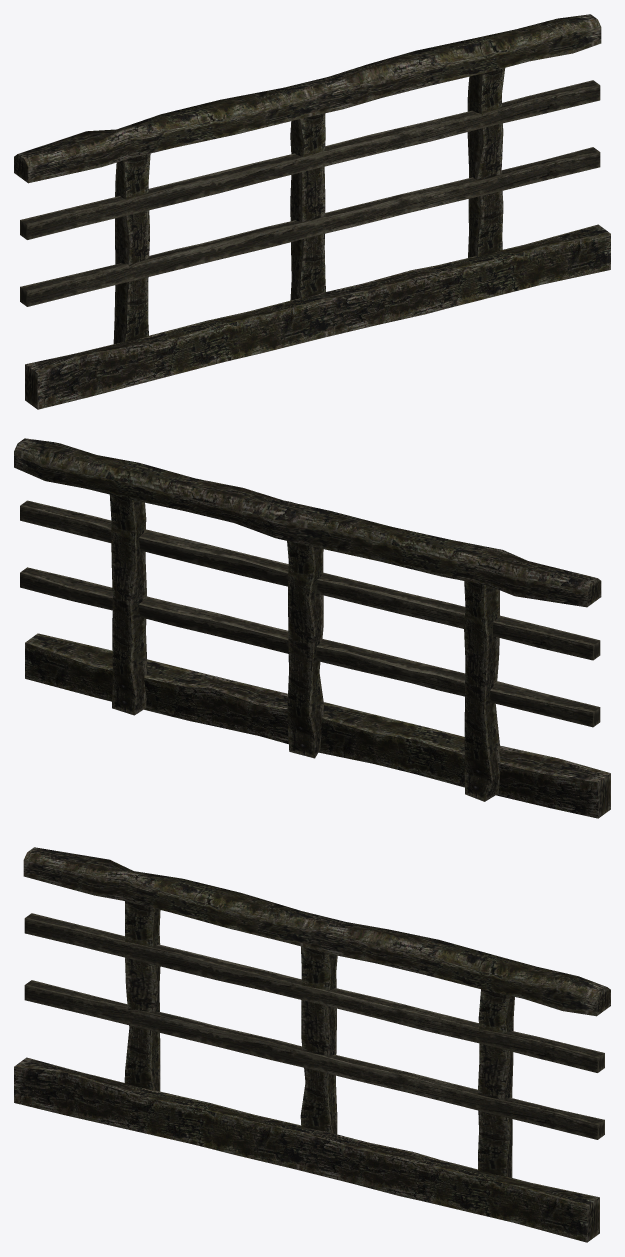
The model's file is railing_wood.dae.
3 views of the same model, one above another, from view 1: azimuth 30°, elevation 25°; view 2: azimuth 150°, elevation 25°; view 3: azimuth 330°, elevation 25° (orthographic).
Parts seen in each view (by area): view 1: polySurface18, polySurface26, polySurface17, polySurface25; view 2: polySurface18, polySurface26, polySurface17, polySurface25; view 3: polySurface18, polySurface26, polySurface17, polySurface25.
Part boxes in pixels (box(x1,y1,x2,y2)): polySurface18: box(25, 224, 610, 409); polySurface26: box(20, 80, 600, 306); polySurface17: box(14, 14, 601, 183); polySurface25: box(113, 68, 505, 343); polySurface18: box(25, 633, 610, 818); polySurface26: box(20, 500, 600, 727); polySurface17: box(14, 438, 601, 607); polySurface25: box(109, 494, 500, 801); polySurface18: box(14, 1057, 599, 1242); polySurface26: box(24, 913, 604, 1139); polySurface17: box(23, 847, 610, 1016); polySurface25: box(124, 901, 514, 1177).
Size of the model in its own units: 3.5 by 1.46 by 0.3193.
